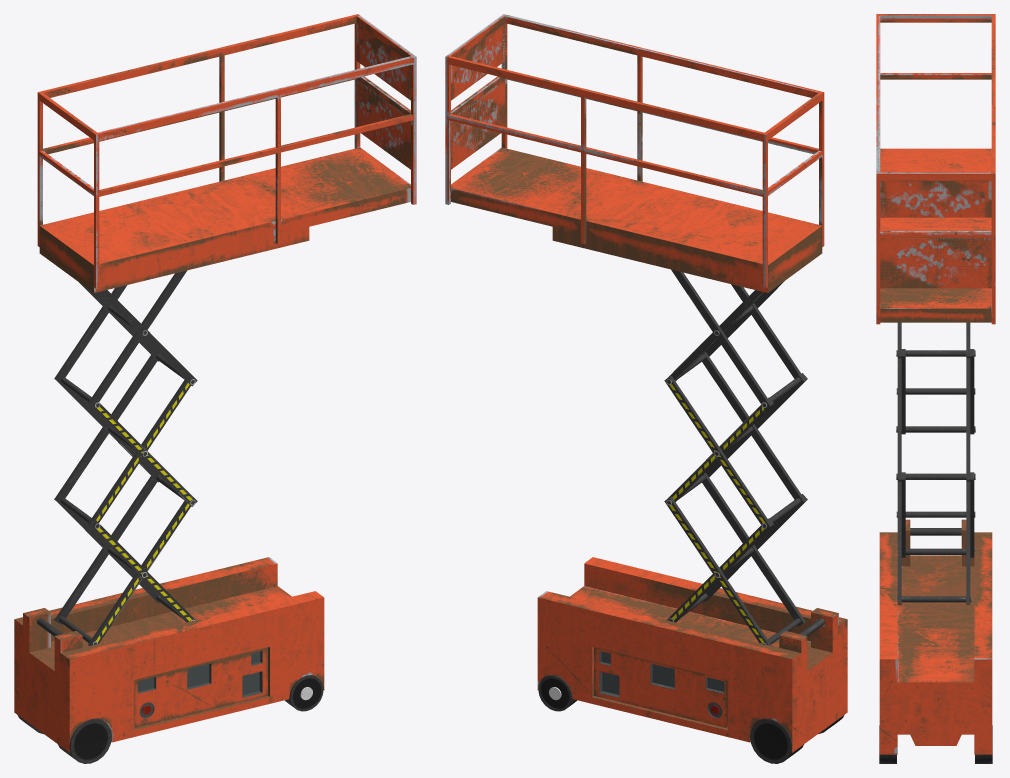
The model's file is fork-lift.glb.
The picture shows the model from 3 angles, left to right: view 1: azimuth 30°, elevation 25°; view 2: azimuth 150°, elevation 25°; view 3: azimuth 270°, elevation 25°; orthographic projection. The views are drawn at different scales.
Parts seen in each view (by area): view 1: scissor_lift_scissor_lift_material_0; view 2: scissor_lift_scissor_lift_material_0; view 3: scissor_lift_scissor_lift_material_0.
Part boxes in pixels (x1,y1,x2,y2): scissor_lift_scissor_lift_material_0: [14, 14, 416, 763]; scissor_lift_scissor_lift_material_0: [445, 14, 847, 763]; scissor_lift_scissor_lift_material_0: [876, 14, 995, 763].
Size of the model in its own units: 3.97 by 6.91 by 1.16.
1 material, 1 textured.
